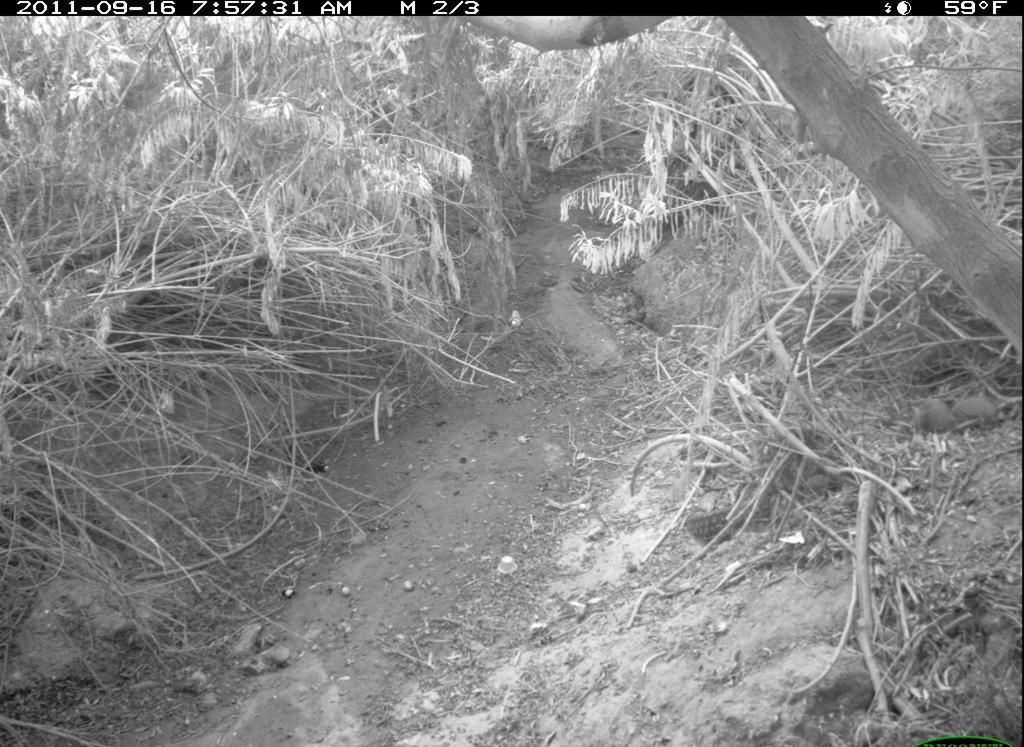squirrel: (909, 388, 1003, 432)
